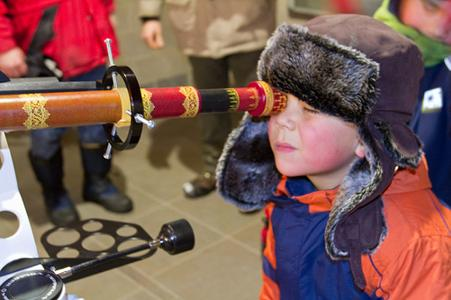person: (220, 15, 450, 300)
